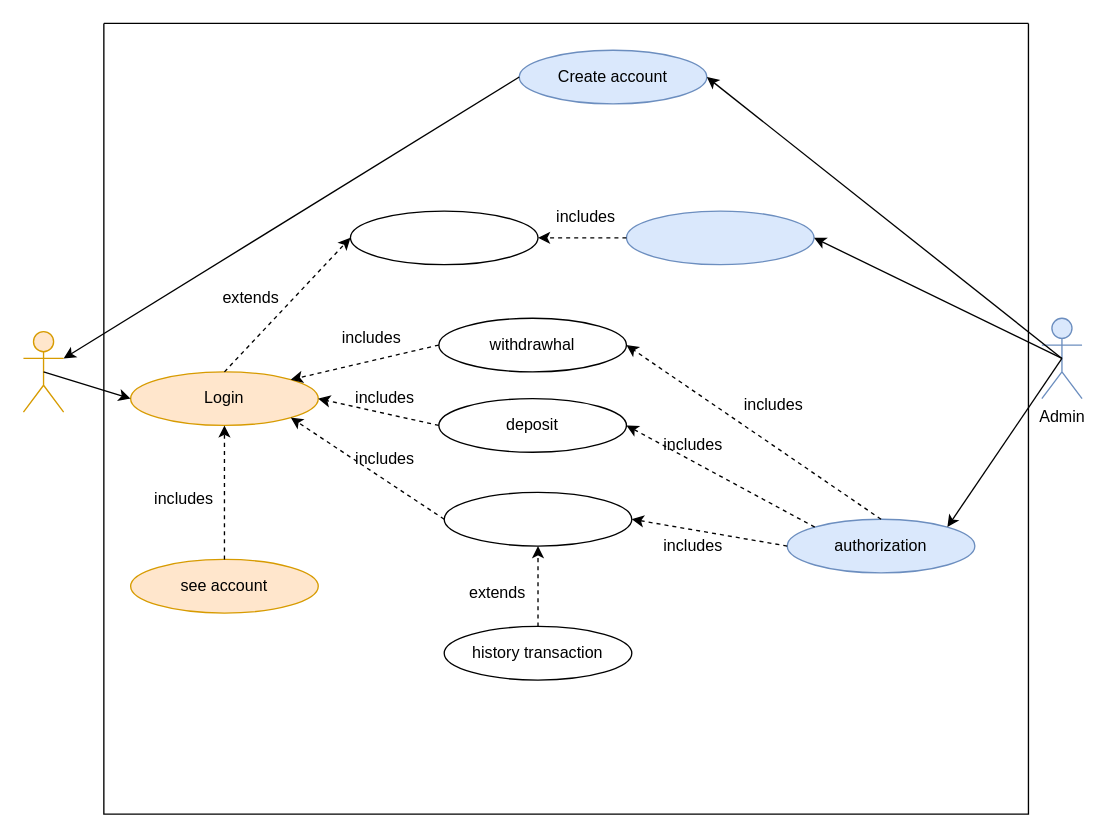
The diagram is 1108 pixels wide and 838 high, and some of its shapes have lost their labels. Each missing label, with the centre of its shape:
"Client" belongs at [43,371].
"request delete account" belongs at [443,237].
"transaction" belongs at [537,518].
"validate delete account" belongs at [719,237].
